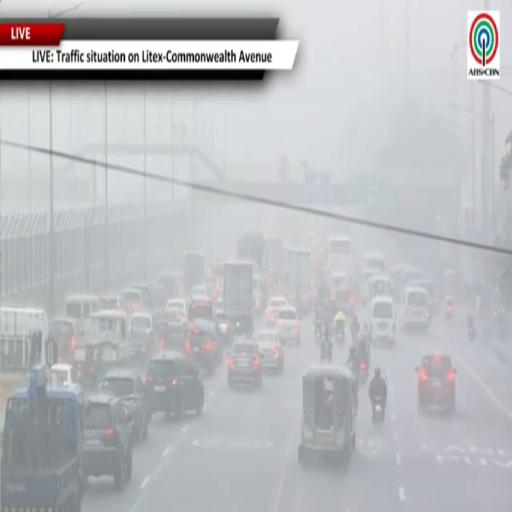car: (83, 395, 132, 489), (146, 351, 204, 419), (101, 370, 151, 441), (415, 354, 456, 411), (228, 340, 263, 389), (189, 325, 218, 375), (50, 318, 82, 360), (51, 363, 83, 403), (402, 287, 430, 331), (256, 330, 284, 373), (158, 322, 190, 355), (128, 313, 155, 348), (276, 307, 300, 344), (188, 298, 214, 326), (153, 309, 185, 331), (121, 288, 145, 315), (266, 297, 288, 326), (216, 310, 233, 345), (166, 298, 187, 323), (99, 295, 122, 310), (191, 285, 209, 299)
motorcycle: (373, 396, 384, 424), (321, 343, 332, 362), (359, 361, 368, 383), (335, 326, 344, 345), (315, 326, 323, 343), (468, 326, 476, 341), (446, 306, 453, 321)
truck: (0, 366, 85, 511), (223, 262, 253, 337), (286, 249, 312, 313), (237, 232, 267, 274), (266, 238, 286, 294), (183, 251, 205, 293)
